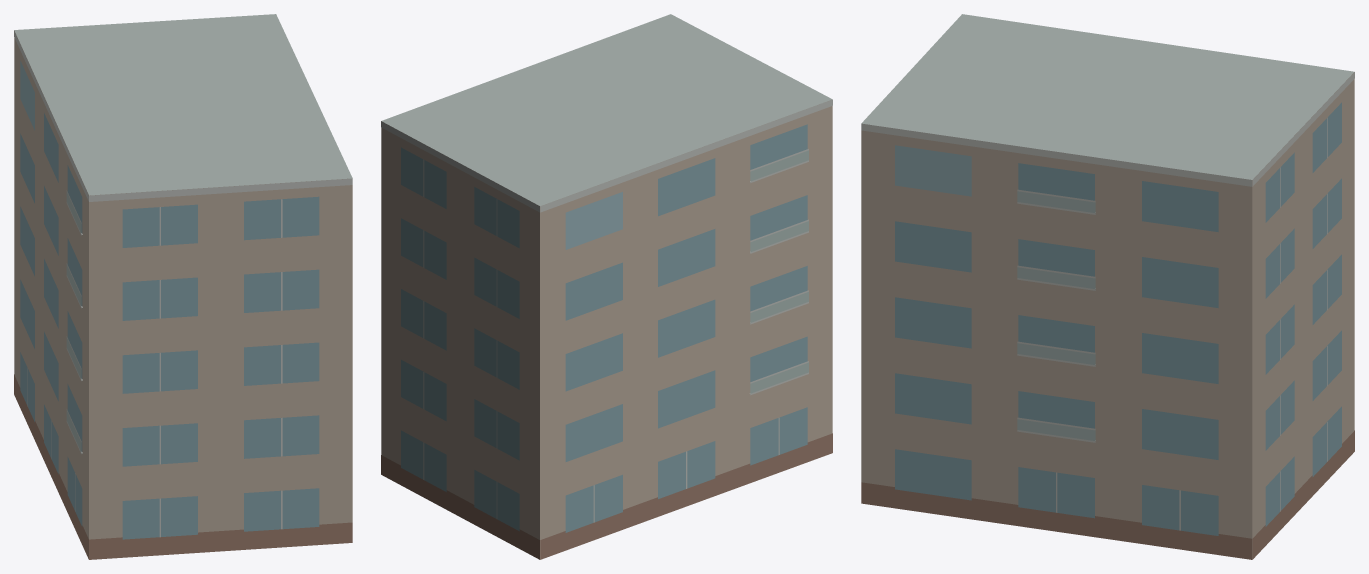
The model's file is survey-upis-32854280.glb.
3 renders of one model, left to right at view 1: azimuth 30°, elevation 25°; view 2: azimuth 150°, elevation 25°; view 3: azimuth 270°, elevation 25°, orthographic. The views are drawn at different scales.
Parts seen in each view (by area): view 1: survey-upis-32854280.tmp; view 2: survey-upis-32854280.tmp; view 3: survey-upis-32854280.tmp.
Part boxes in pixels (x1=…): survey-upis-32854280.tmp: x1=14, y1=14, x2=352, y2=559; survey-upis-32854280.tmp: x1=381, y1=14, x2=832, y2=559; survey-upis-32854280.tmp: x1=861, y1=14, x2=1354, y2=559.
Bounding box in the file's own units: 12.66 × 13.5 × 15.9.
